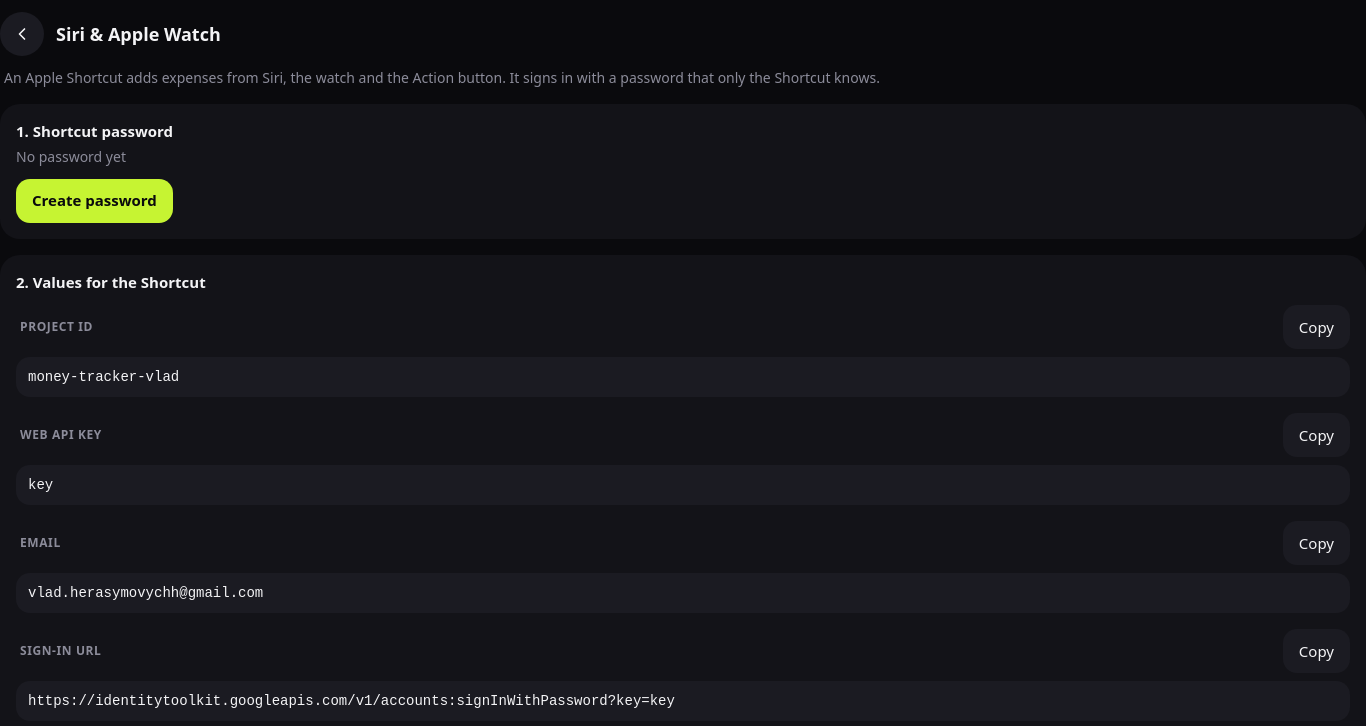
Test: ShortcutPage › 1. Shortcut password › says why a change failed, and changes nothing
Click the button "Create password".
click(94, 200)  # box [16,178,173,222]
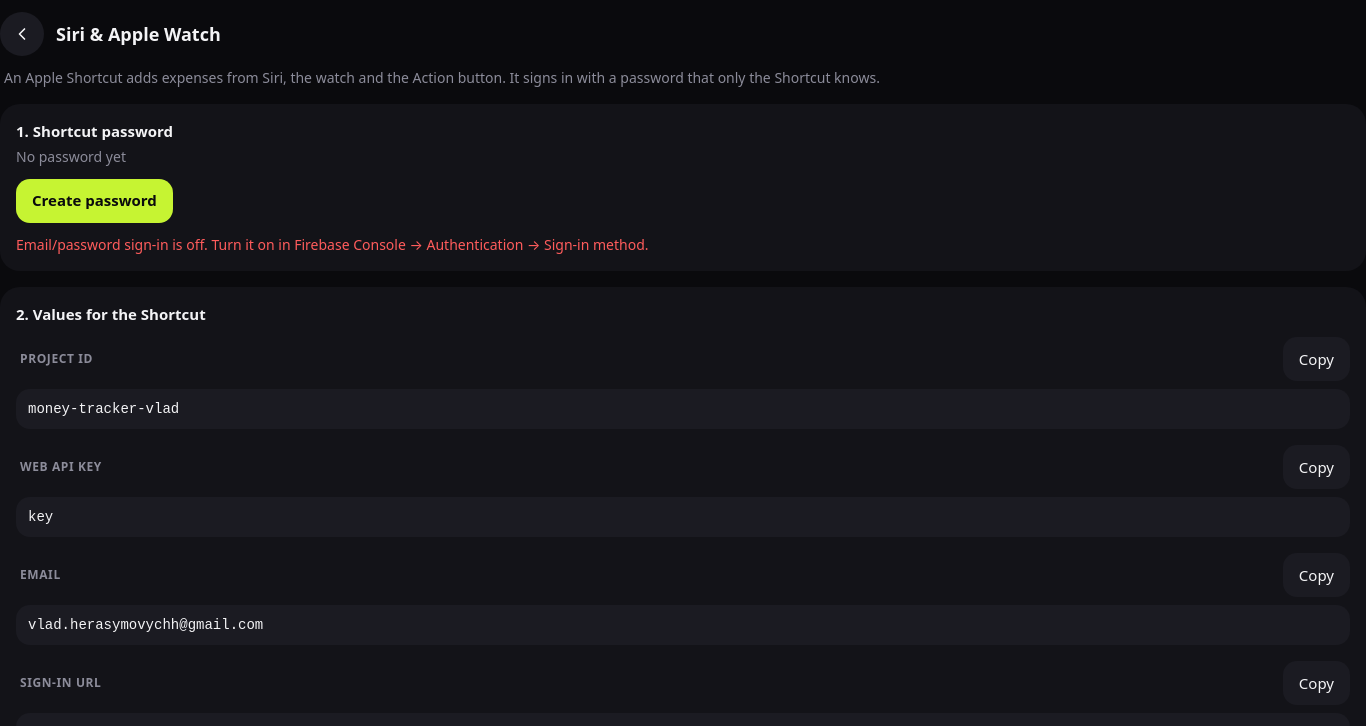
Check: the text "No password yet" is shown, box [16,146,126,166]
Check: the message shows "Email/password sign-in is off. Turn it on in Firebase Console → Authentication → Sign-in method.", box [16,234,648,254]
